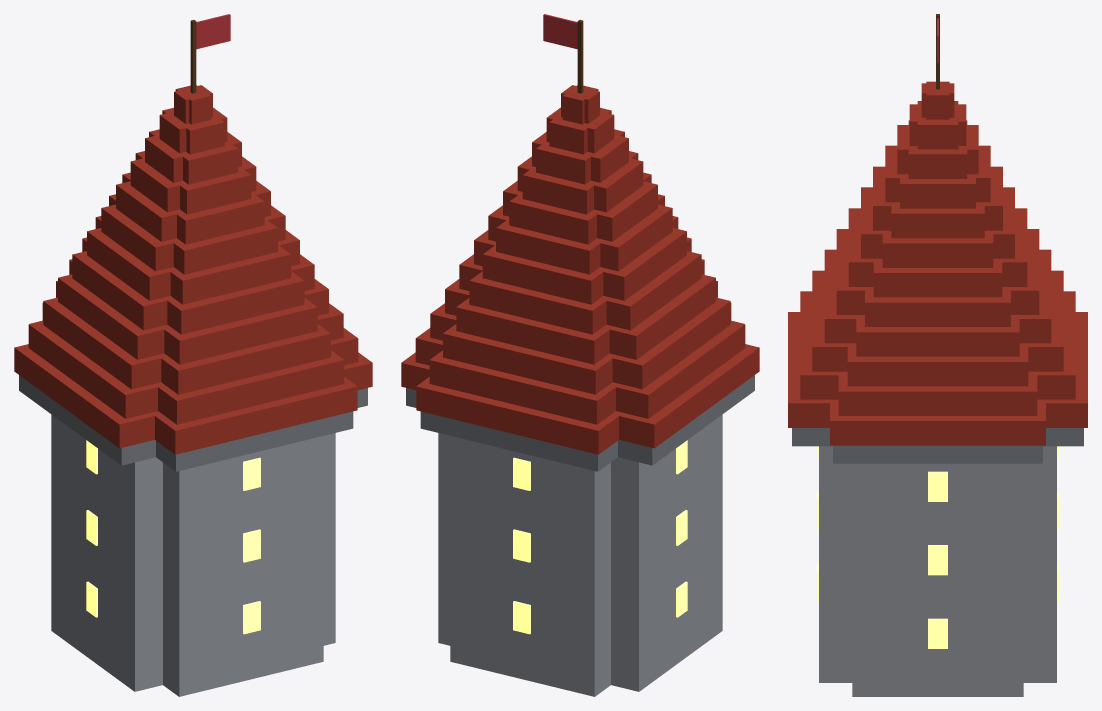
The model's file is tt-tower-crown-4.glb.
3 renders of one model, left to right at view 1: azimuth 30°, elevation 25°; view 2: azimuth 150°, elevation 25°; view 3: azimuth 270°, elevation 25°, orthographic. The views are drawn at different scales.
Visible parts, largest first — view 1: box-prop; view 2: box-prop; view 3: box-prop.
Part boxes in pixels (x1,y1,x2,y2): box-prop: [14, 14, 372, 696]; box-prop: [401, 14, 759, 696]; box-prop: [788, 14, 1087, 696].
Bounding box in the file's own units: 11.1 × 25.8 × 11.1.
